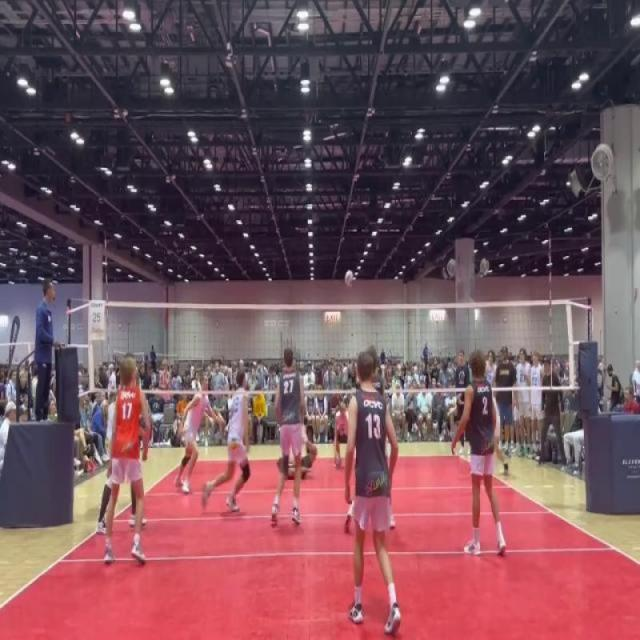volleyball: (344, 268, 354, 288)
